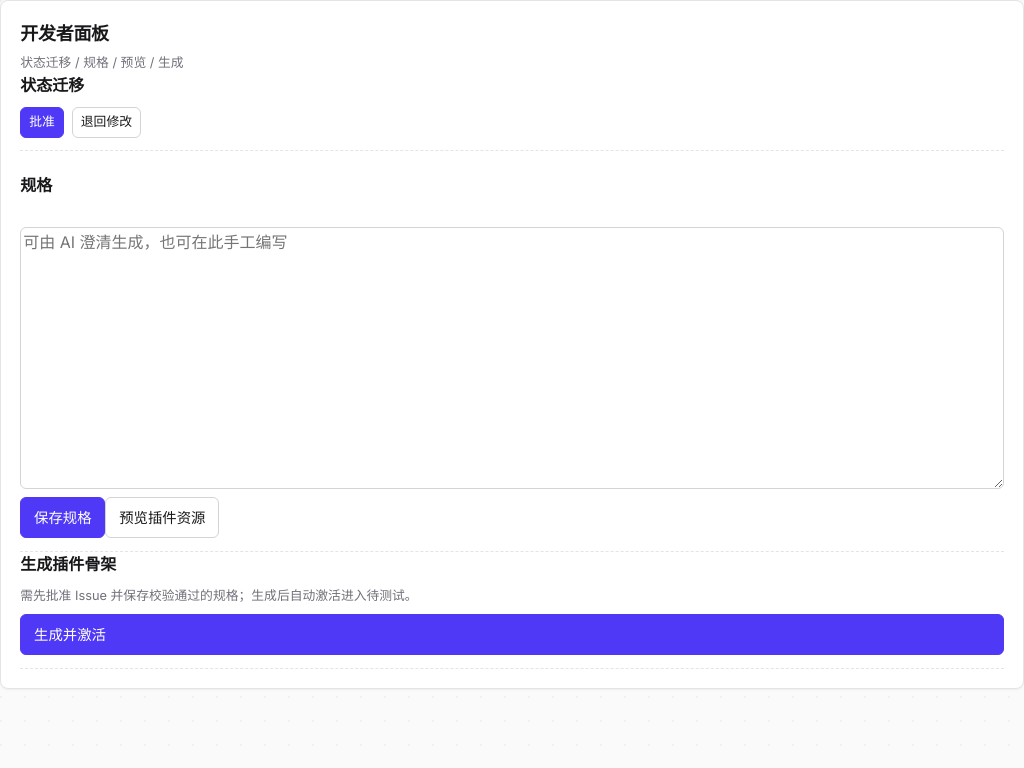
IssueDevPanel 旁路迁移与复位（审查 P2-3/P2-5） › 切换 Issue 复位打开中的确认对话框（审查 P2-3）
Click the button with test id "transition-RETURNED": [106, 122] box [72, 107, 141, 138]
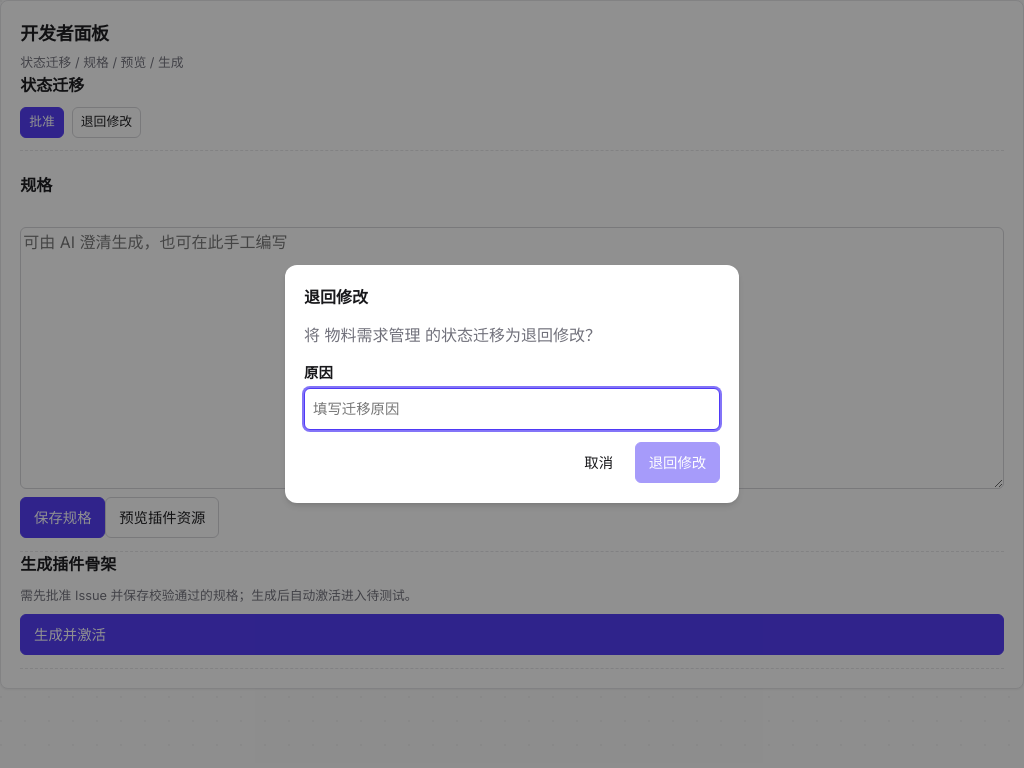
Check: the element with test id "ff-confirm-overlay" is shown
